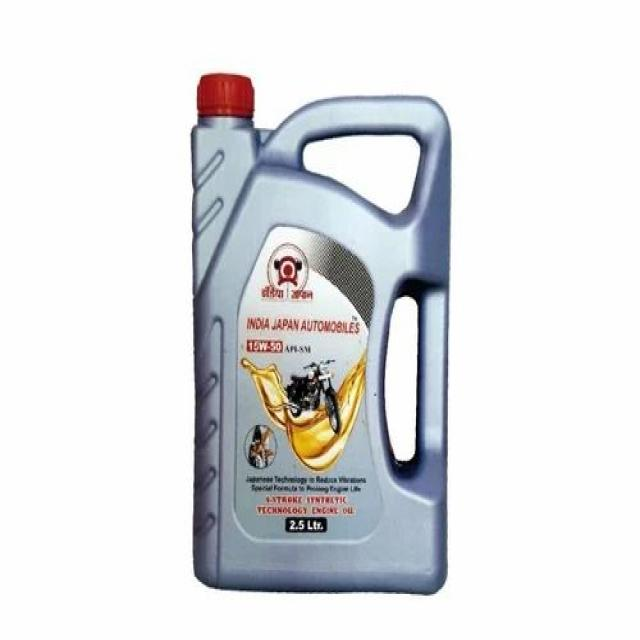motor_oil: (181, 58, 455, 608)
